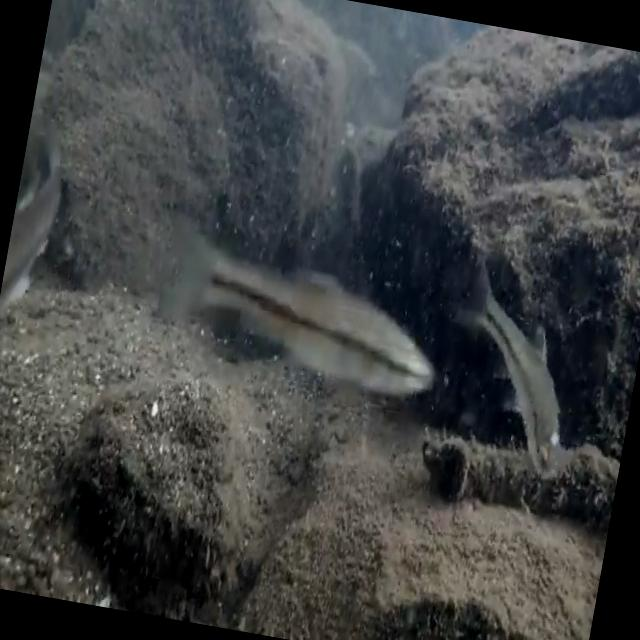Cakil Baligi: (143, 202, 456, 428), (428, 254, 601, 486)
